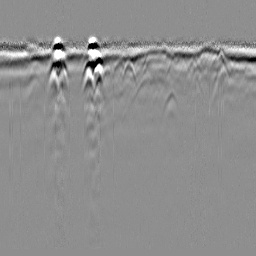cavity: (120, 60, 137, 87)
